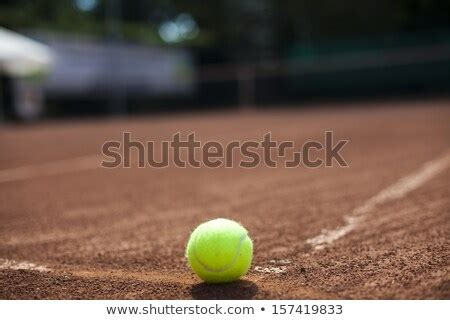tennis_ball: (186, 218, 252, 284)
